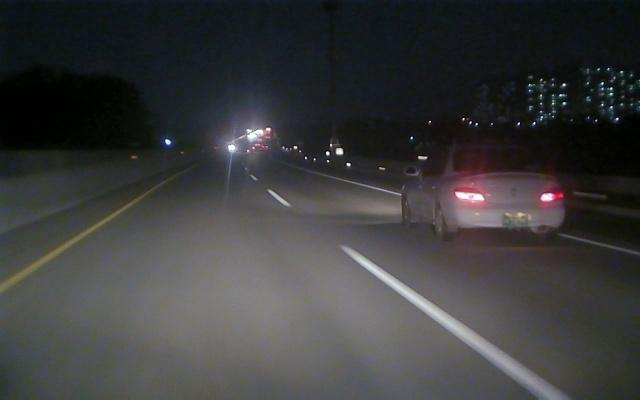lane: (253, 178, 572, 398), (335, 177, 640, 256), (2, 192, 147, 292)
